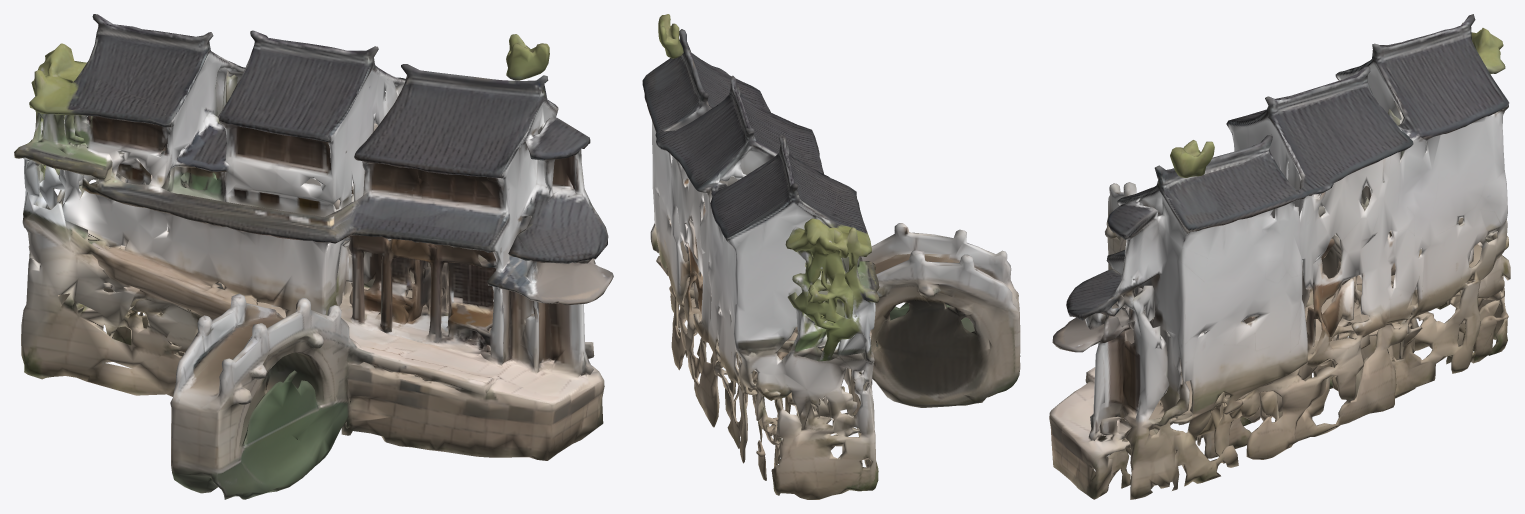
3 renders of one model, left to right at view 1: azimuth 30°, elevation 25°; view 2: azimuth 150°, elevation 25°; view 3: azimuth 270°, elevation 25°, orthographic. The views are drawn at different scales.
Visible parts, largest first — view 1: material.001; view 2: material.001; view 3: material.001.
Boxes of the visible parts, x1,y1,x2,y2 form: material.001: (14,14,613,499); material.001: (642,14,1020,499); material.001: (1049,14,1510,499).
Bounding box in the file's own units: 0.7954 × 0.6853 × 0.8007.
1 material, 1 textured.
